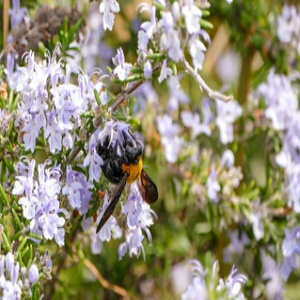bee: (95, 134, 161, 244)
